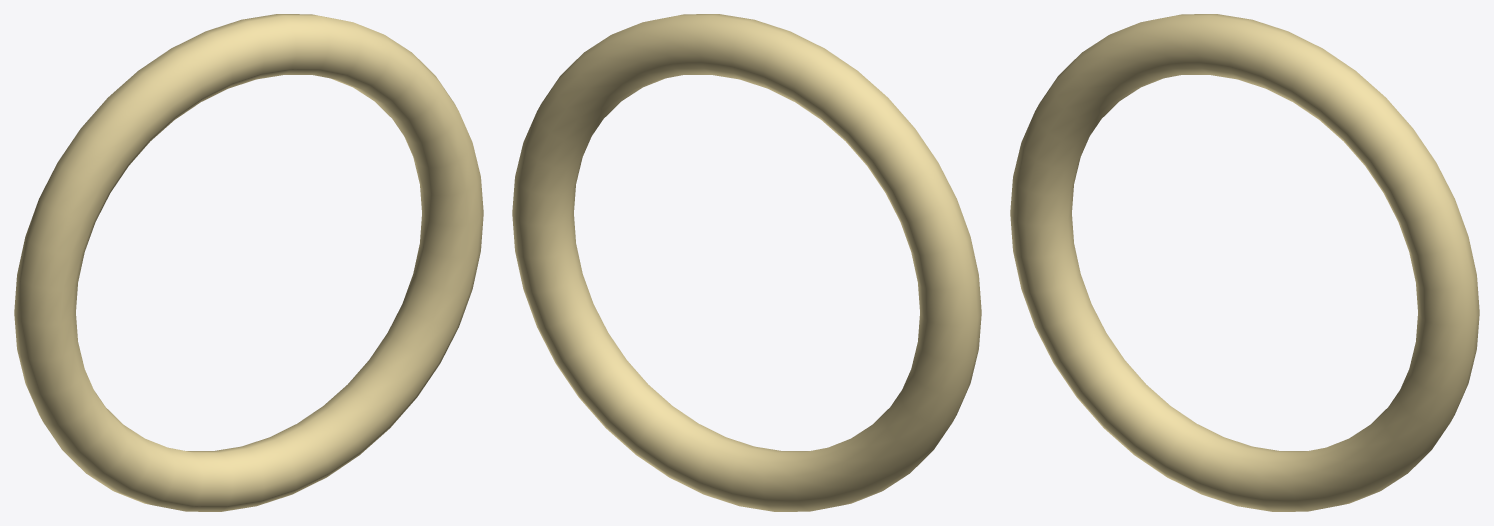
3 views of the same model, side by side, from view 1: azimuth 30°, elevation 25°; view 2: azimuth 150°, elevation 25°; view 3: azimuth 330°, elevation 25° (orthographic).
Visible parts, largest first — view 1: Jewelry; view 2: Jewelry; view 3: Jewelry.
Boxes of the visible parts, x1,y1,x2,y2 form: Jewelry: [14, 14, 483, 511]; Jewelry: [512, 14, 981, 511]; Jewelry: [1010, 14, 1479, 511].
Bounding box in the file's own units: 0.95 × 0.95 × 0.11.
